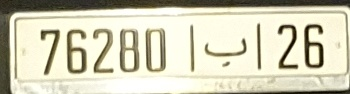0: (144, 25, 167, 74)
2: (276, 22, 299, 70), (91, 27, 114, 74)
6: (303, 22, 326, 70), (66, 28, 89, 75)
7: (38, 27, 60, 76)
8: (118, 28, 140, 73)
b: (203, 37, 249, 68)
